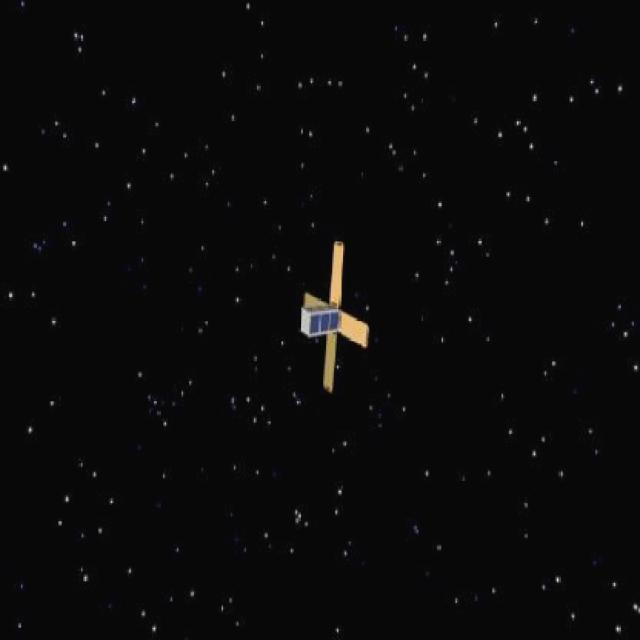satellite: (292, 233, 390, 392)
